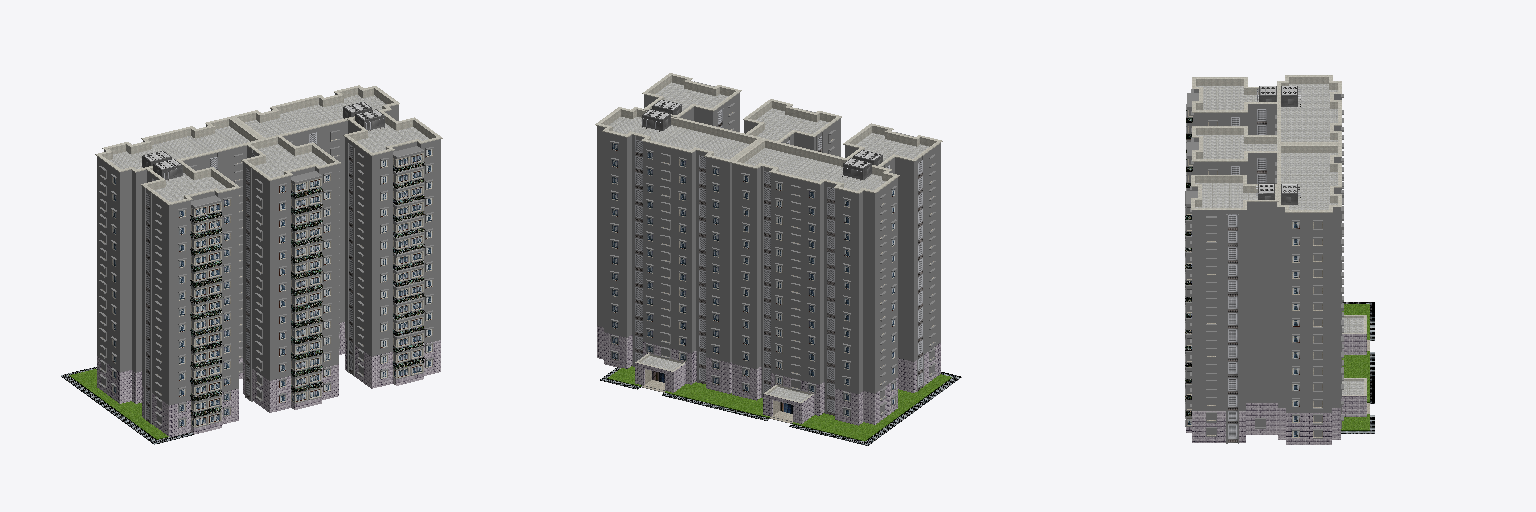
The picture shows the model from 3 angles: view 1: azimuth 30°, elevation 25°; view 2: azimuth 150°, elevation 25°; view 3: azimuth 270°, elevation 25°; orthographic projection.
Parts seen in each view (by area): view 1: high_building8, roof3, unit3_foor_1, unit3_floor014, unit3_floor008, unit3_floor013, unit3_floor3, unit3_floor004, unit3_floor006, unit3_floor005, unit3_floor011, unit3_floor010 (+4 smaller); view 2: high_building8, roof3, unit3_floor014; view 3: high_building8, roof3, unit3_foor_1, unit3_floor014, unit3_floor006, unit3_floor004, unit3_floor012, unit3_floor011, unit3_floor013, unit3_floor010, unit3_floor008, unit3_floor009 (+4 smaller).
Boxes of the visible parts, x1,y1,x2,y2 form: high_building8: [61, 85, 399, 444]; roof3: [343, 109, 442, 159]; unit3_foor_1: [345, 351, 440, 388]; unit3_floor014: [345, 124, 440, 176]; unit3_floor008: [345, 240, 440, 274]; unit3_floor013: [345, 157, 440, 192]; unit3_floor3: [345, 321, 440, 356]; unit3_floor004: [345, 305, 440, 339]; unit3_floor006: [345, 272, 440, 306]; unit3_floor005: [345, 288, 440, 323]; unit3_floor011: [345, 190, 440, 225]; unit3_floor010: [345, 206, 440, 241]; high_building8: [595, 99, 961, 445]; roof3: [642, 73, 741, 117]; unit3_floor014: [644, 81, 739, 126]; high_building8: [1186, 75, 1374, 444]; roof3: [1191, 175, 1278, 214]; unit3_foor_1: [1185, 416, 1277, 443]; unit3_floor014: [1185, 186, 1277, 230]; unit3_floor006: [1185, 330, 1277, 361]; unit3_floor004: [1185, 355, 1277, 394]; unit3_floor012: [1185, 224, 1277, 263]; unit3_floor011: [1185, 248, 1277, 279]; unit3_floor013: [1185, 215, 1277, 247]; unit3_floor010: [1185, 257, 1277, 296]; unit3_floor008: [1185, 297, 1277, 329]; unit3_floor009: [1185, 273, 1277, 312].
Bounding box in the file's own units: 615 × 478 × 344.
Materials: 16 (13 with a texture image).